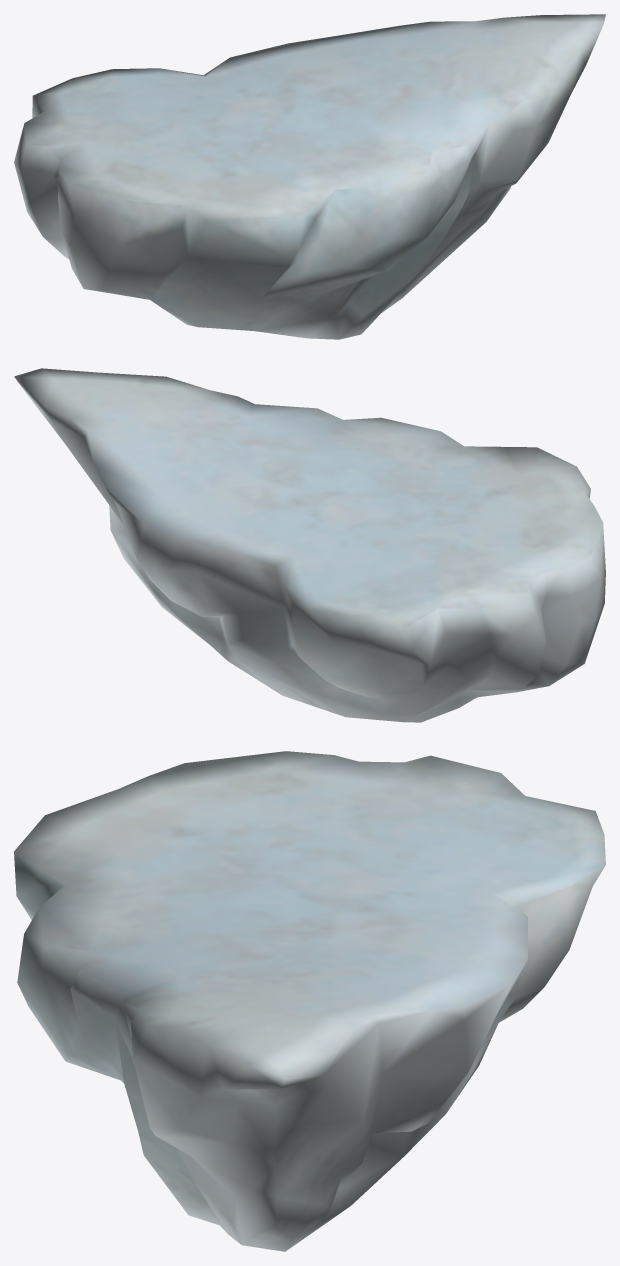
The model's file is P_CliffClassic5.obj.
The picture shows the model from 3 angles, top to bottom: view 1: azimuth 30°, elevation 25°; view 2: azimuth 150°, elevation 25°; view 3: azimuth 270°, elevation 25°; orthographic projection. The views are drawn at different scales.
Bounding box in the file's own units: 97.62 × 40.18 × 63.39.
